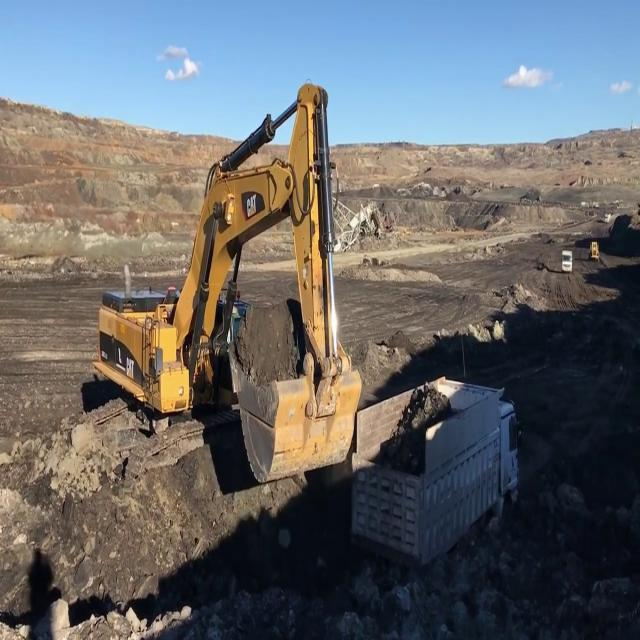excavator: (88, 76, 376, 500)
